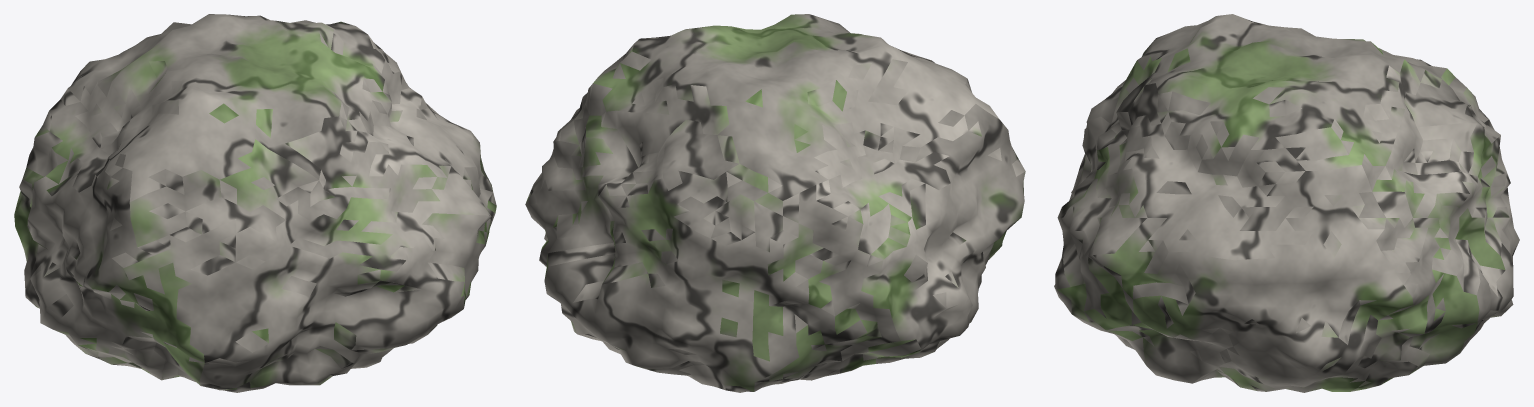
File: Boulder_LOD0.fbx
The picture shows the model from 3 angles, left to right: view 1: azimuth 30°, elevation 25°; view 2: azimuth 150°, elevation 25°; view 3: azimuth 270°, elevation 25°; orthographic projection.
Visible parts, largest first — view 1: Boulder_LOD0; view 2: Boulder_LOD0; view 3: Boulder_LOD0.
Part boxes in pixels (x1=…): Boulder_LOD0: x1=14, y1=14, x2=496, y2=392; Boulder_LOD0: x1=525, y1=14, x2=1025, y2=392; Boulder_LOD0: x1=1054, y1=14, x2=1519, y2=392.
Size of the model in its own units: 1.13 by 0.7174 by 1.11.
Materials: 1 (1 with a texture image).
